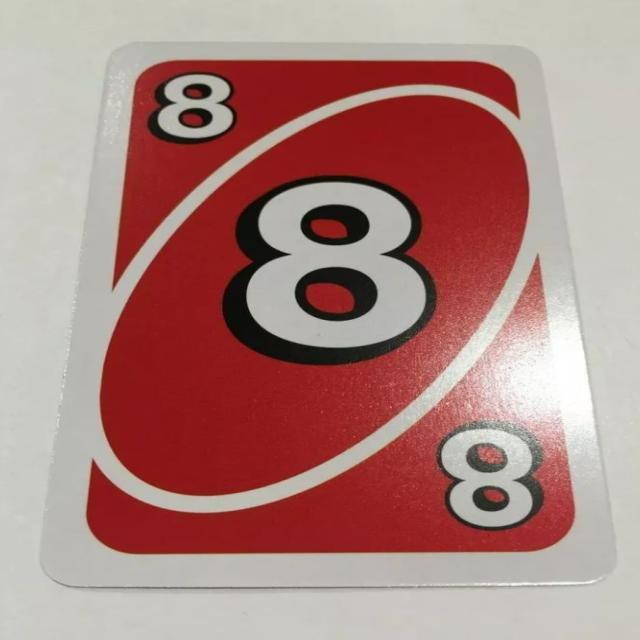Number_8: (151, 69, 238, 145)
Red_Card: (77, 56, 584, 559)
